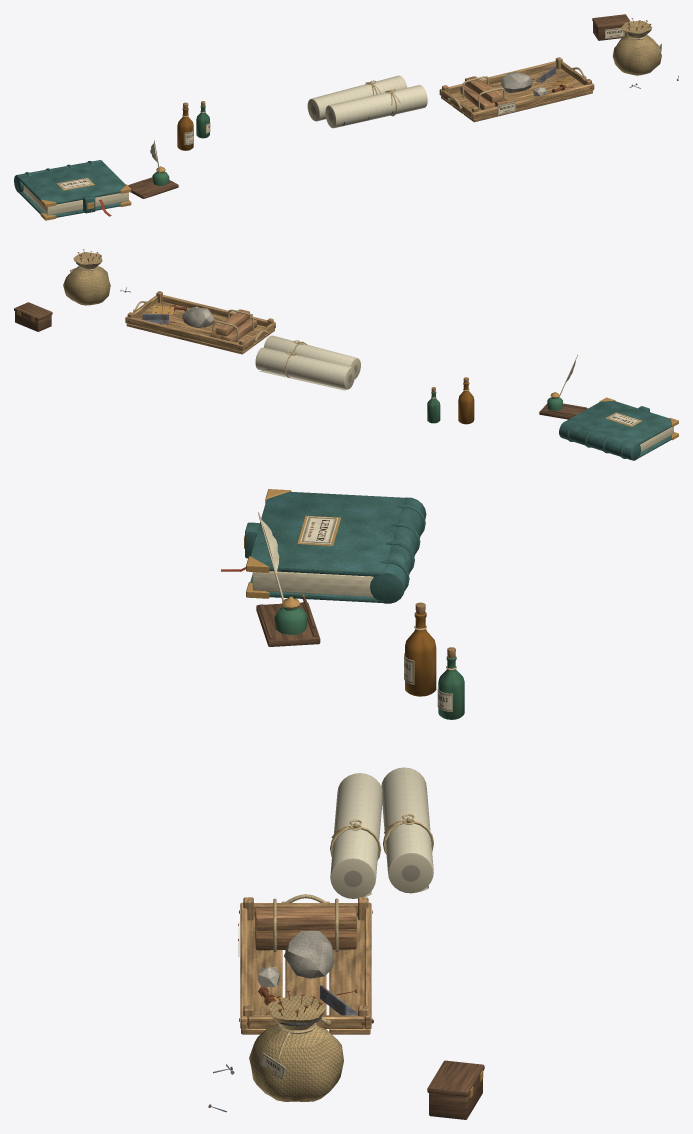
File: rook_counter_stock.gltf
3 renders of one model, top to bottom at view 1: azimuth 30°, elevation 25°; view 2: azimuth 150°, elevation 25°; view 3: azimuth 270°, elevation 25°, orthographic. The views are drawn at different scales.
Parts seen in each view (by area): view 1: ROOK_COUNTER; view 2: ROOK_COUNTER; view 3: ROOK_COUNTER.
Part boxes in pixels (x1=…): ROOK_COUNTER: x1=14, y1=14, x2=678, y2=220; ROOK_COUNTER: x1=14, y1=249, x2=678, y2=460; ROOK_COUNTER: x1=208, y1=489, x2=484, y2=1119.
Bounding box in the file's own units: 3.22 × 0.2799 × 0.6258.
Materials: 21 (21 with a texture image).
